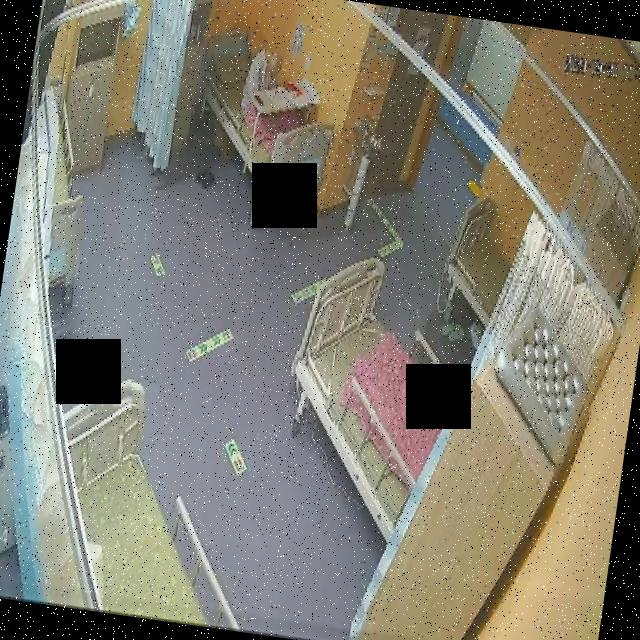bed: (36, 374, 271, 632), (273, 251, 467, 545), (180, 23, 348, 210), (439, 194, 520, 332)
patient: (239, 41, 287, 116)
sit: (240, 38, 286, 108)
